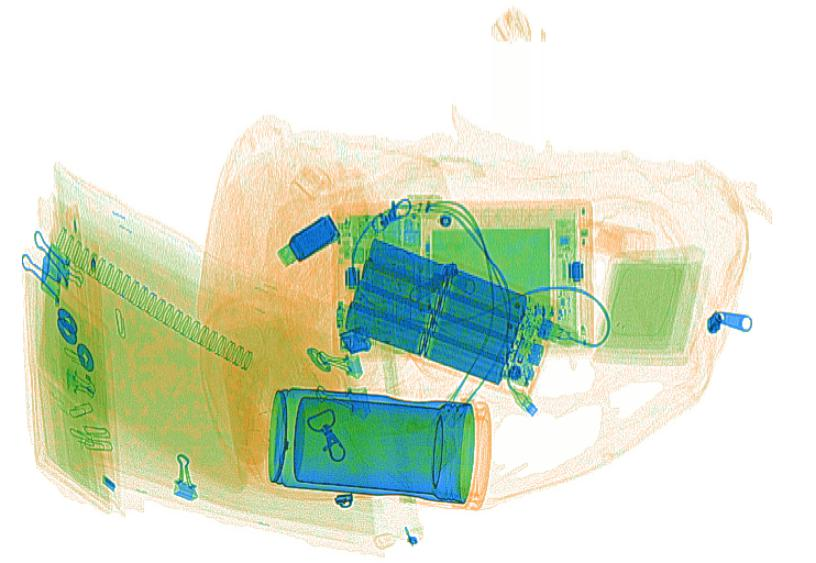USBFlashDisk: (275, 210, 341, 268)
battery: (343, 238, 562, 395)
